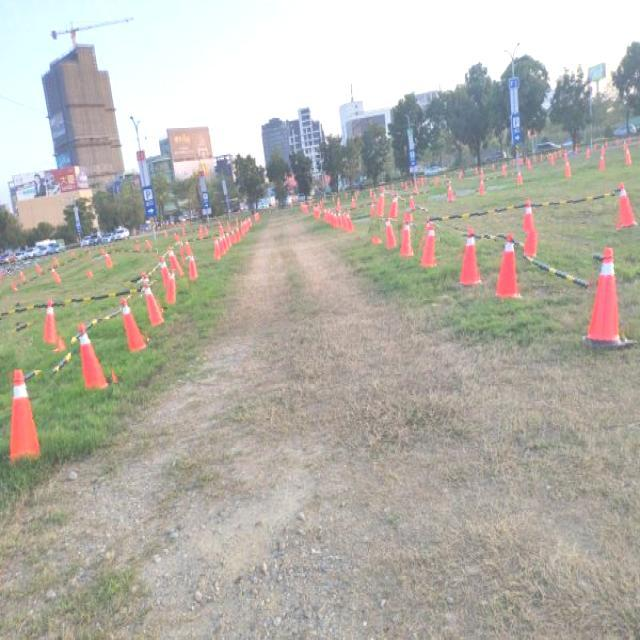car: (613, 124, 638, 138), (535, 140, 561, 152)
traffic cone: (582, 247, 637, 350), (7, 369, 41, 464), (77, 329, 110, 391), (494, 234, 524, 300), (457, 227, 485, 287), (120, 298, 148, 354), (42, 297, 67, 353), (614, 182, 638, 231), (142, 277, 165, 328), (522, 198, 539, 259), (418, 222, 439, 269), (42, 297, 59, 346), (399, 217, 415, 258), (384, 218, 397, 251), (188, 256, 198, 282), (477, 171, 487, 196), (598, 146, 607, 172), (446, 180, 456, 203), (623, 142, 632, 167), (104, 253, 113, 269), (110, 369, 119, 385), (516, 172, 524, 186)
